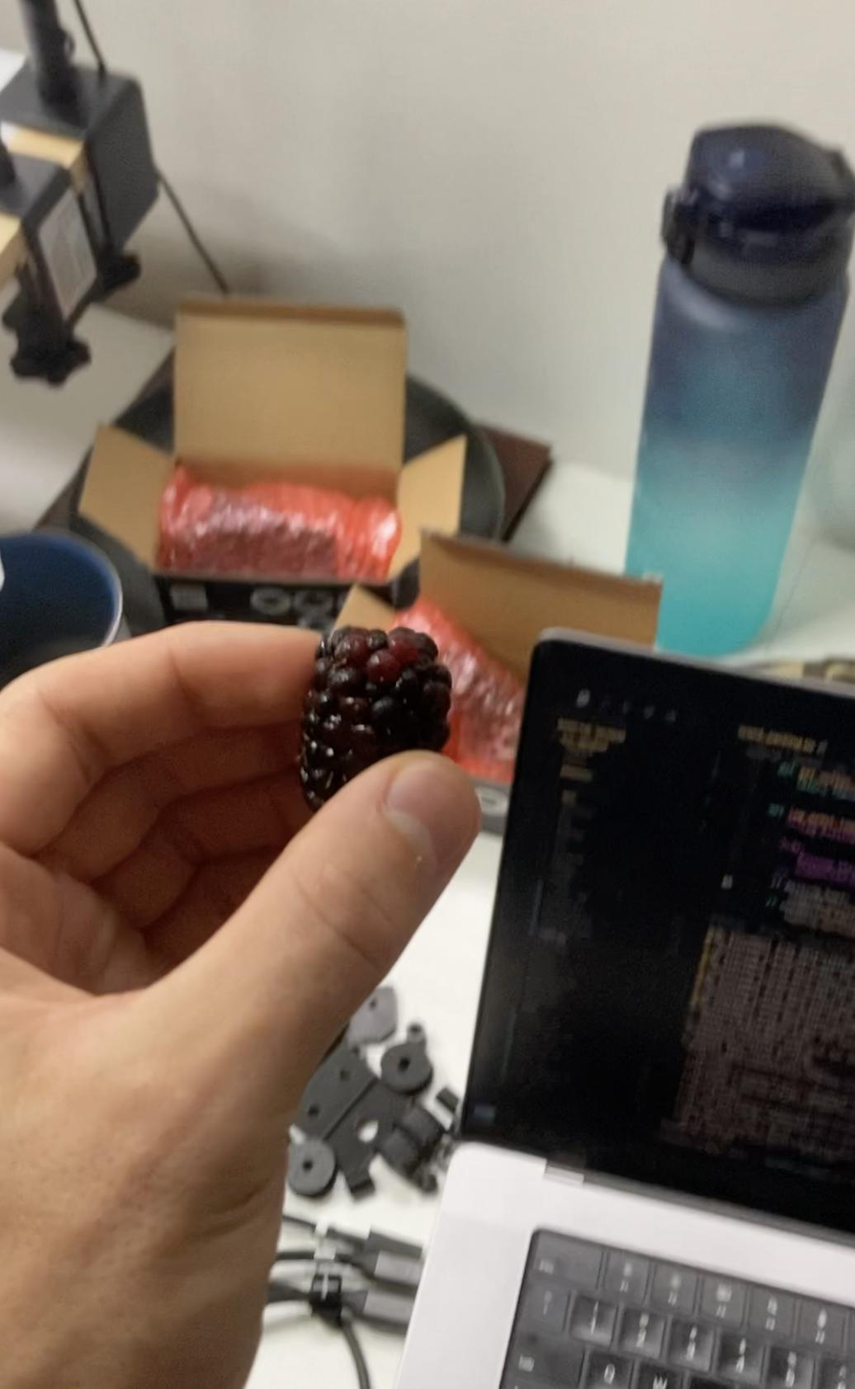berry: (300, 627, 451, 811)
red drouplet: (388, 626, 437, 664), (364, 647, 407, 685), (333, 633, 369, 669)
